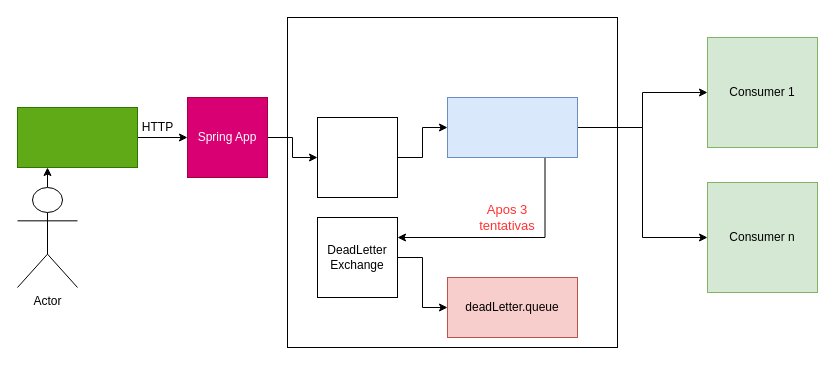
This 835x365 diagram has some shape labels left out. The centre of each missing label's shape, as x and y in pixels:
"acate.generate.pdf" belongs at pixel 512 127.
"Financial Exchange" belongs at pixel 357 157.
"Relatório Financeiro" belongs at pixel 77 137.
